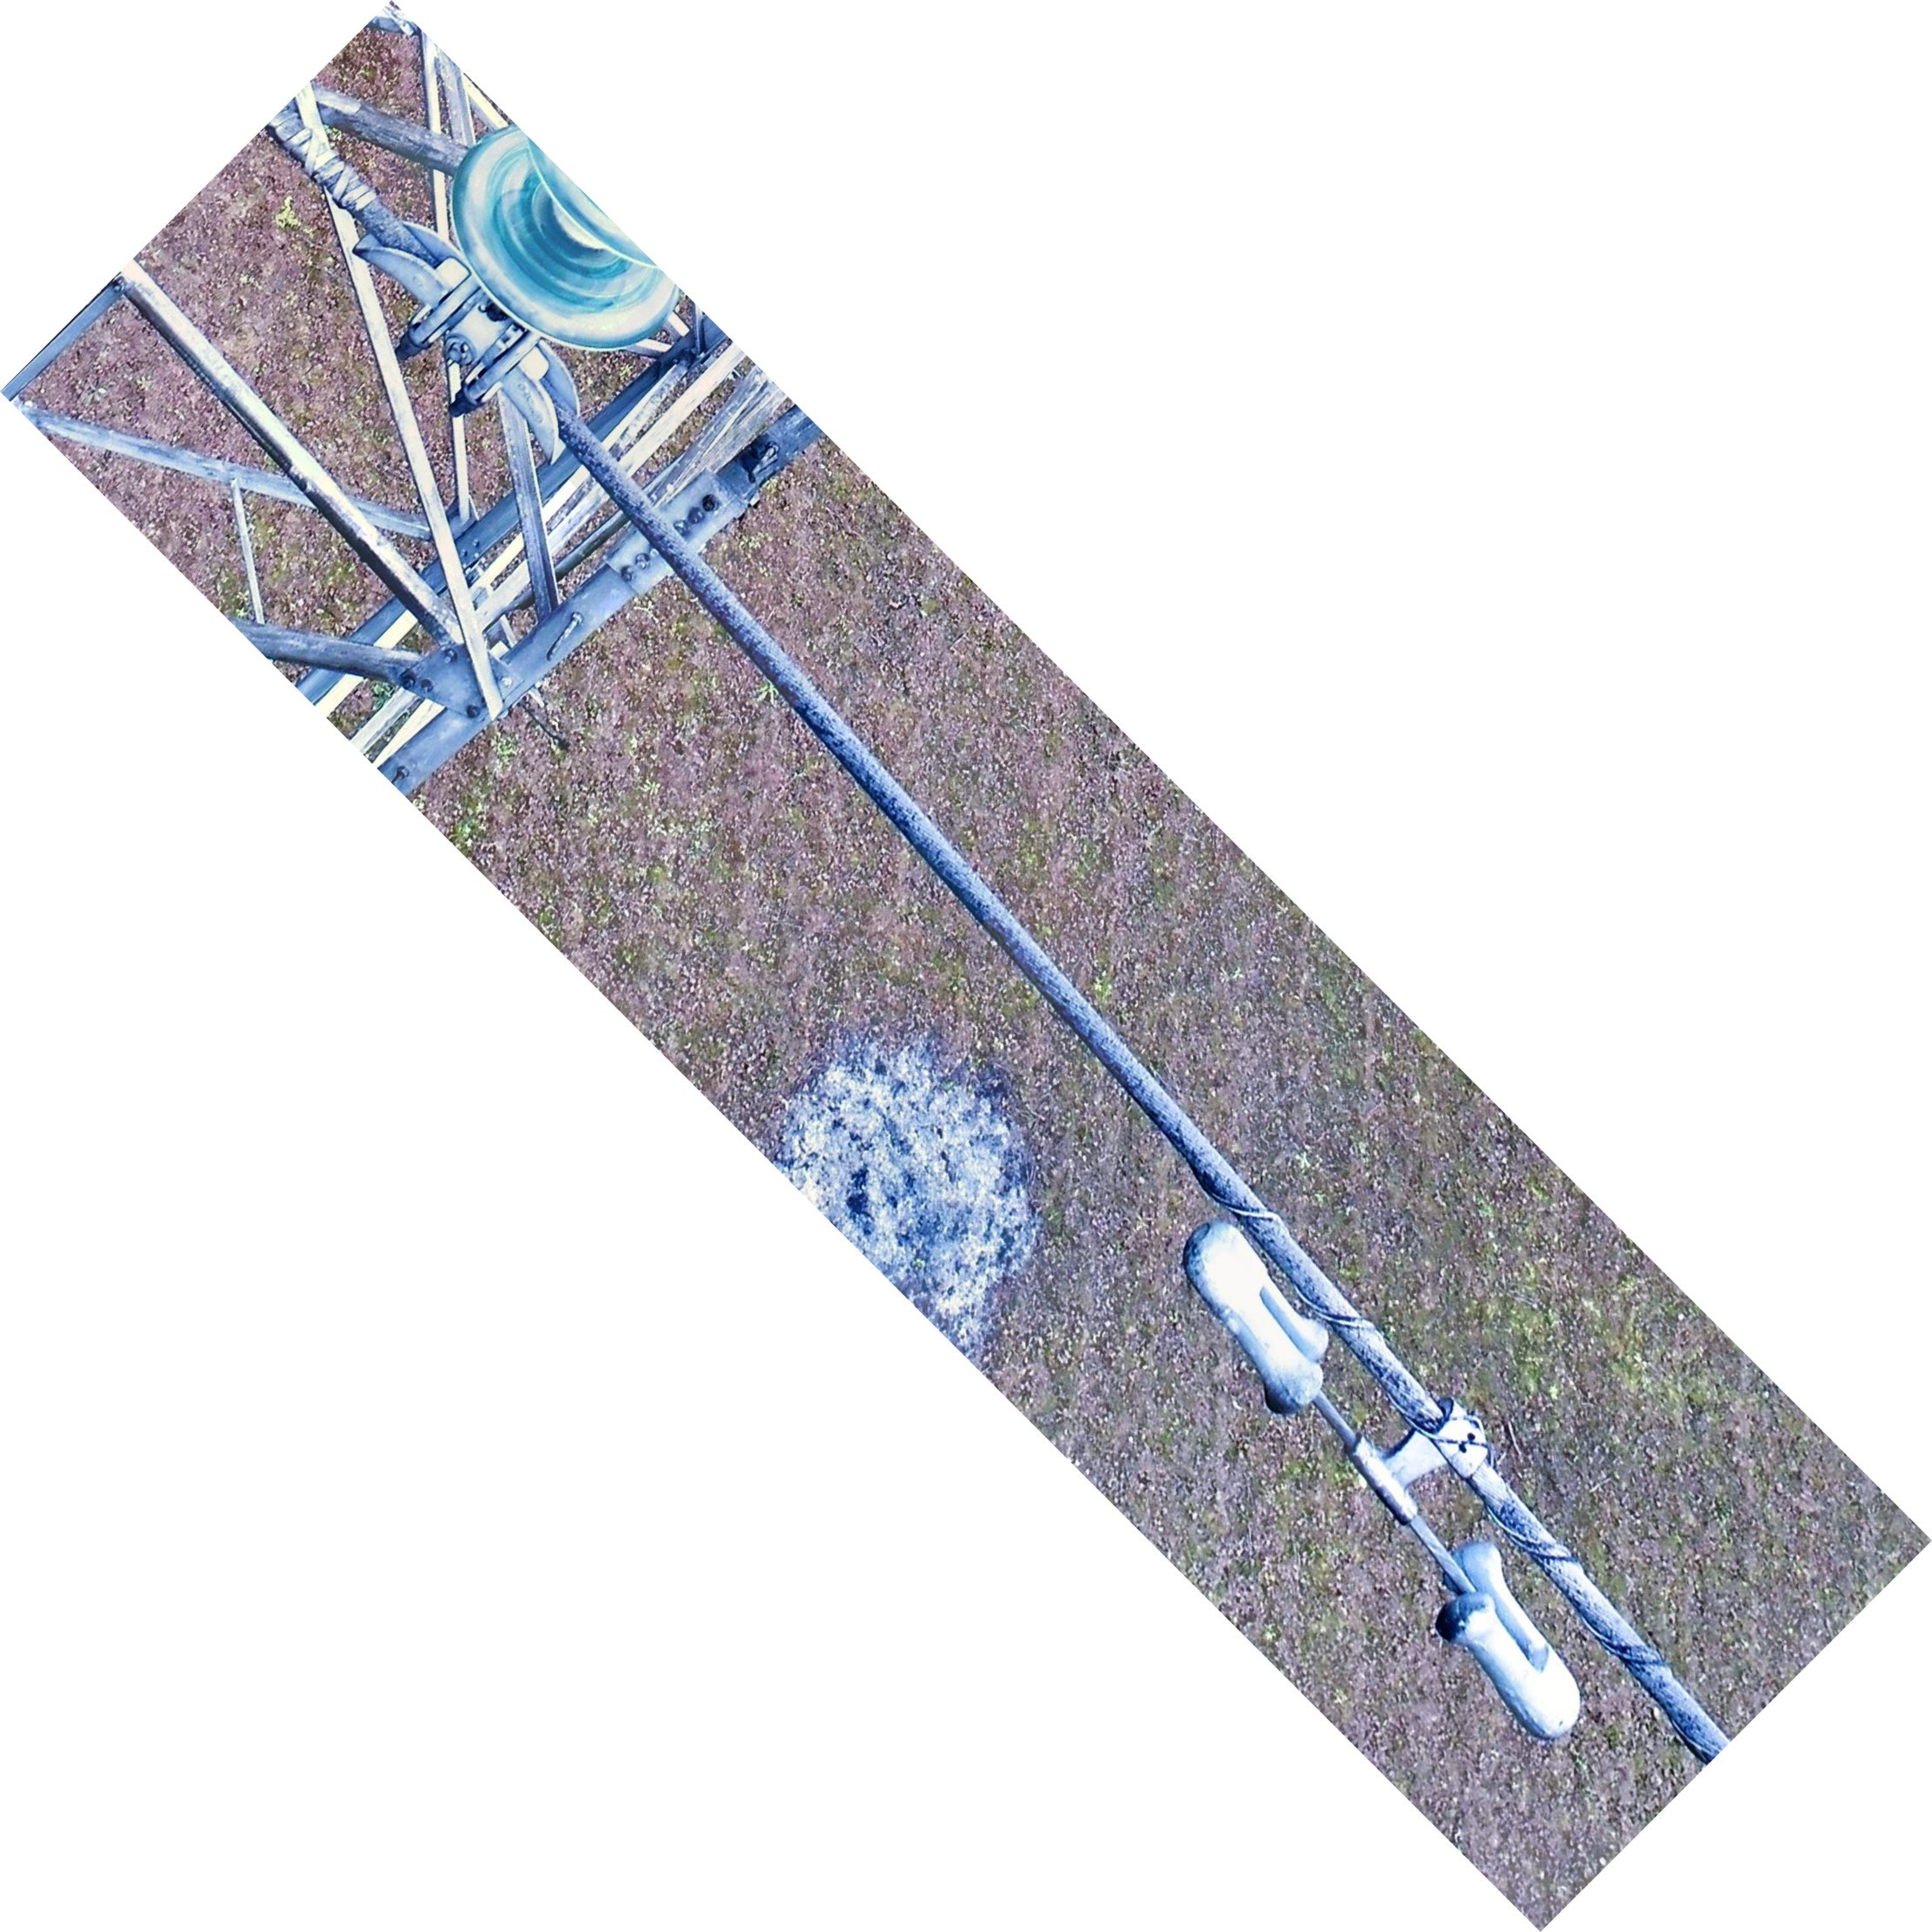Shockproof hammer: (1178, 1180, 1610, 1764)
